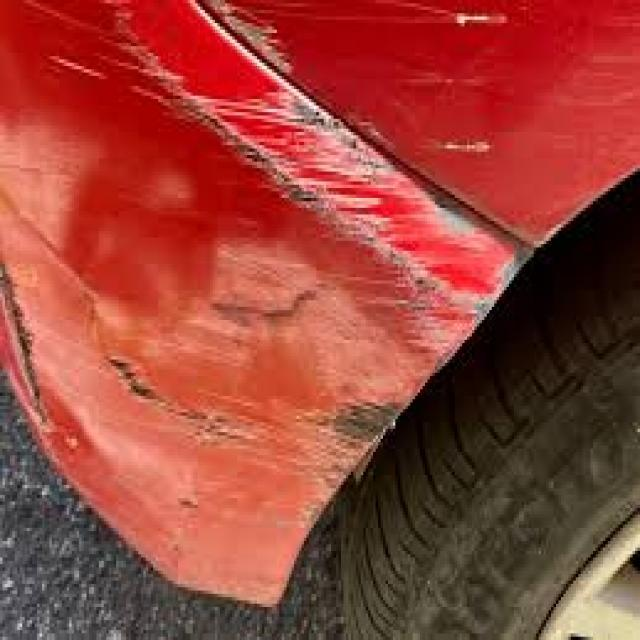dent-or-scratch: (1, 0, 522, 607)
